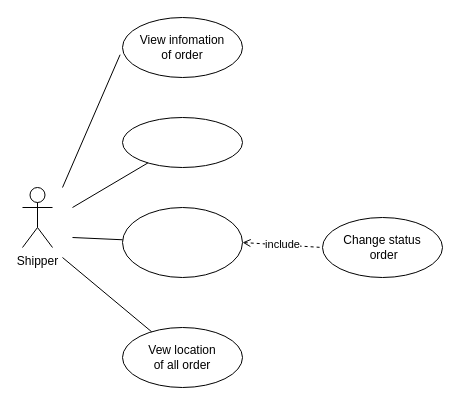
The diagram is 460 pixels wide and 405 high, and some of its shapes have lost their labels. Each missing label, with the box of its shape:
Add status note of order: (122, 206, 242, 278)
Direct location of order: (122, 116, 242, 168)
